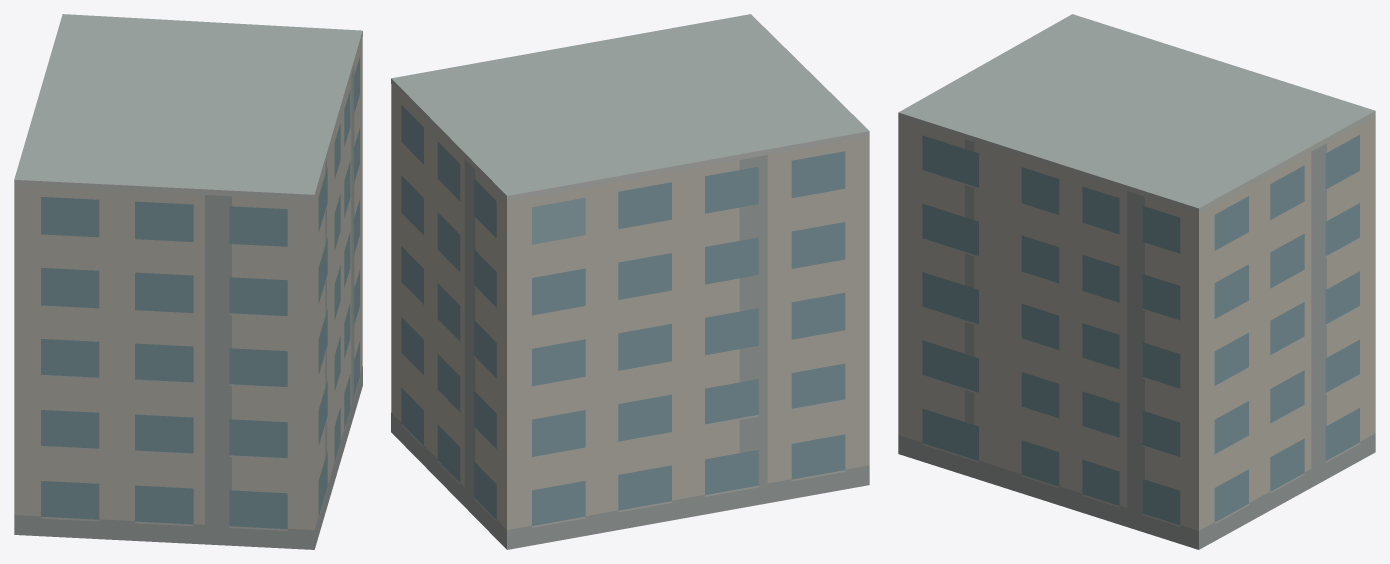
File: survey-upis-32985757.glb
The picture shows the model from 3 angles, left to right: view 1: azimuth 30°, elevation 25°; view 2: azimuth 150°, elevation 25°; view 3: azimuth 270°, elevation 25°; orthographic projection. The views are drawn at different scales.
Parts seen in each view (by area): view 1: survey-upis-32985757.tmp; view 2: survey-upis-32985757.tmp; view 3: survey-upis-32985757.tmp.
Boxes of the visible parts, left/top/right/bottom form: survey-upis-32985757.tmp: left=14, top=14, right=362, bottom=549; survey-upis-32985757.tmp: left=391, top=14, right=869, bottom=549; survey-upis-32985757.tmp: left=898, top=14, right=1375, bottom=549.
Size of the model in its own units: 18.82 by 15.4 by 19.52.
